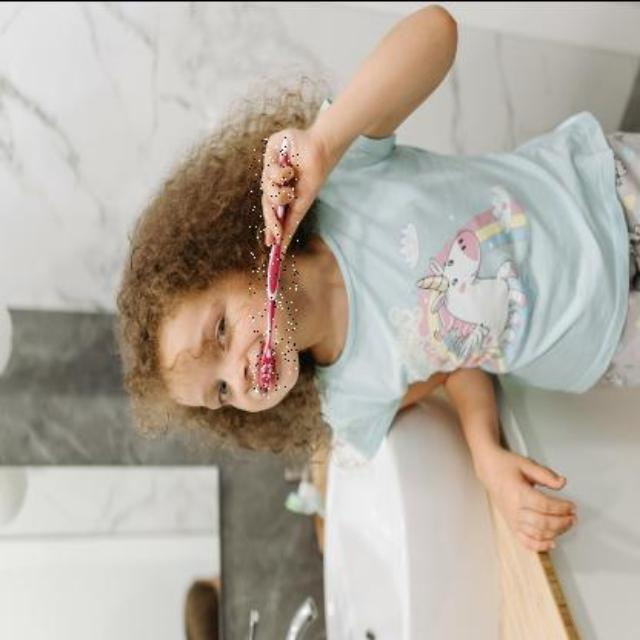toothbrush: (250, 134, 298, 398)
